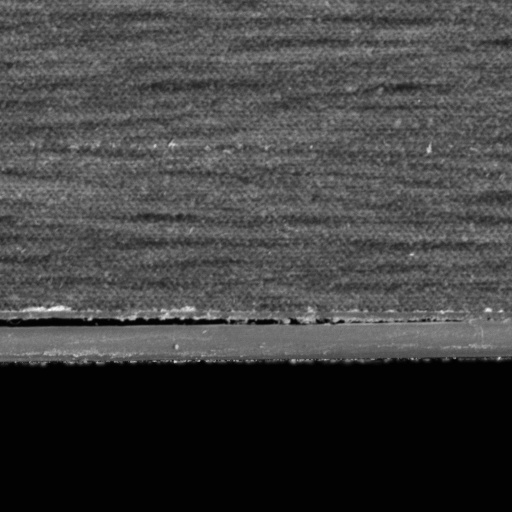kaijiao: (0, 306, 511, 366)
